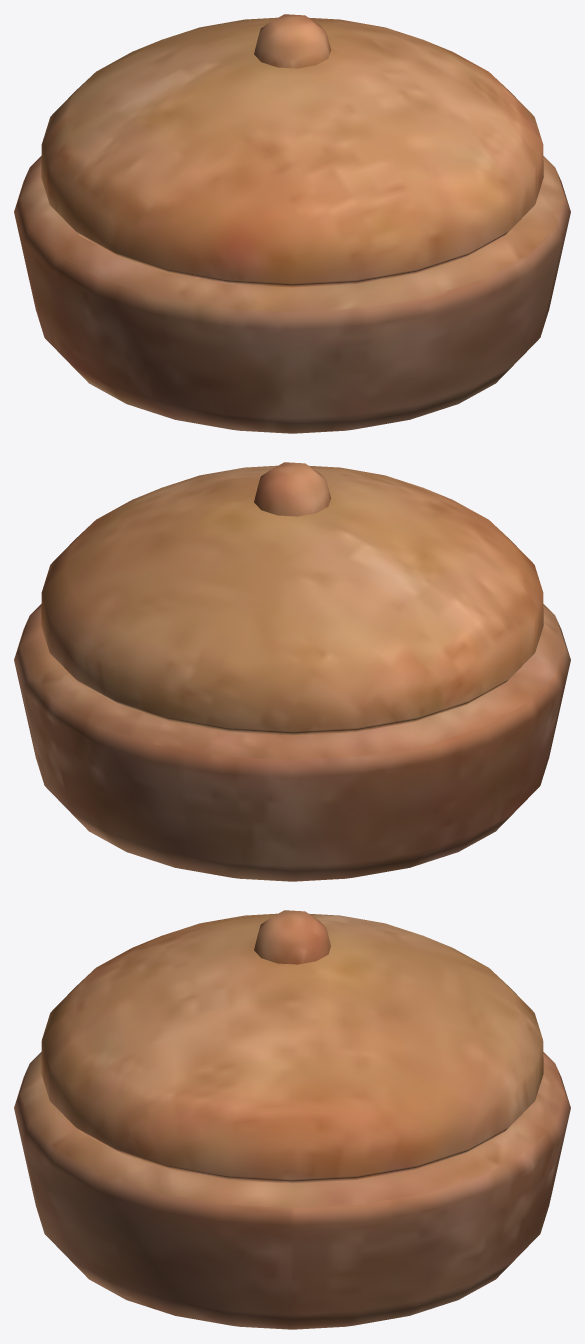
The picture shows the model from 3 angles, top to bottom: view 1: azimuth 30°, elevation 25°; view 2: azimuth 150°, elevation 25°; view 3: azimuth 270°, elevation 25°; orthographic projection.
Visible parts, largest first — view 1: SM_Moon_Garou_Vase_03v1_LOD0; view 2: SM_Moon_Garou_Vase_03v1_LOD0; view 3: SM_Moon_Garou_Vase_03v1_LOD0.
Part boxes in pixels (x1=…): SM_Moon_Garou_Vase_03v1_LOD0: x1=14, y1=14, x2=570, y2=433; SM_Moon_Garou_Vase_03v1_LOD0: x1=14, y1=462, x2=570, y2=881; SM_Moon_Garou_Vase_03v1_LOD0: x1=14, y1=910, x2=570, y2=1329.
Bounding box in the file's own units: 0.2831 × 0.1853 × 0.2831.
1 material, 1 textured.
